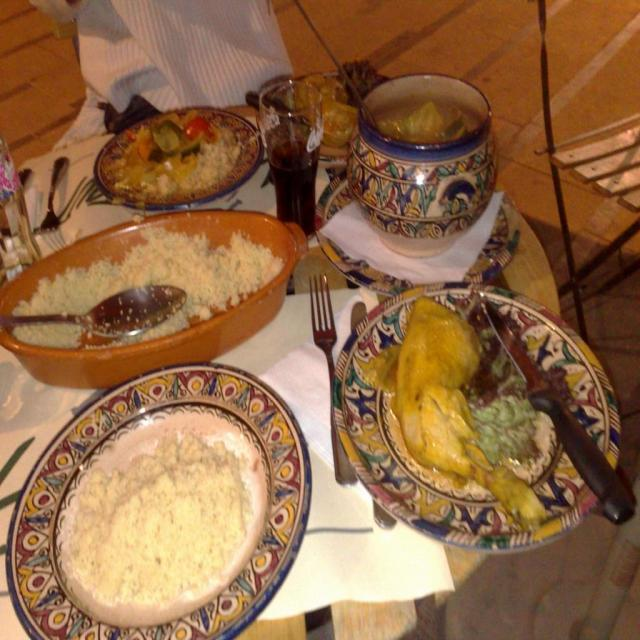ceramic plate: (28, 356, 295, 640)
